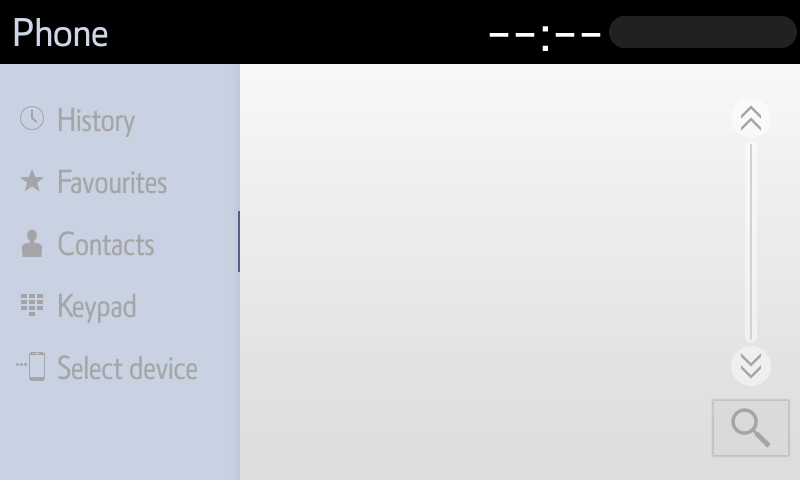untouchPart: (487, 12, 797, 54), (13, 347, 203, 390), (15, 98, 166, 143), (17, 160, 168, 202), (705, 397, 794, 461), (14, 225, 154, 265), (22, 285, 142, 324), (4, 9, 115, 49), (722, 347, 781, 384), (725, 101, 775, 139)
